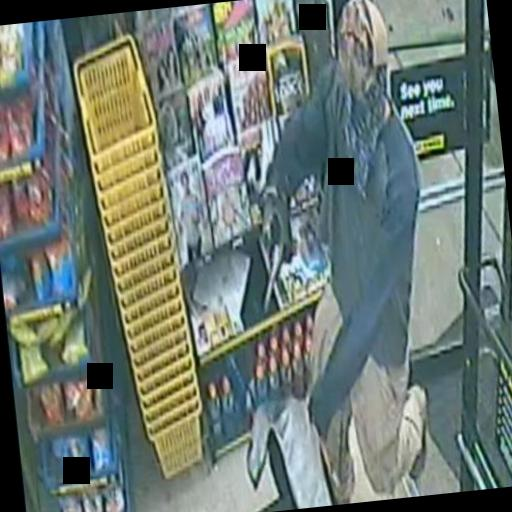Handgun: (248, 212, 292, 310)
